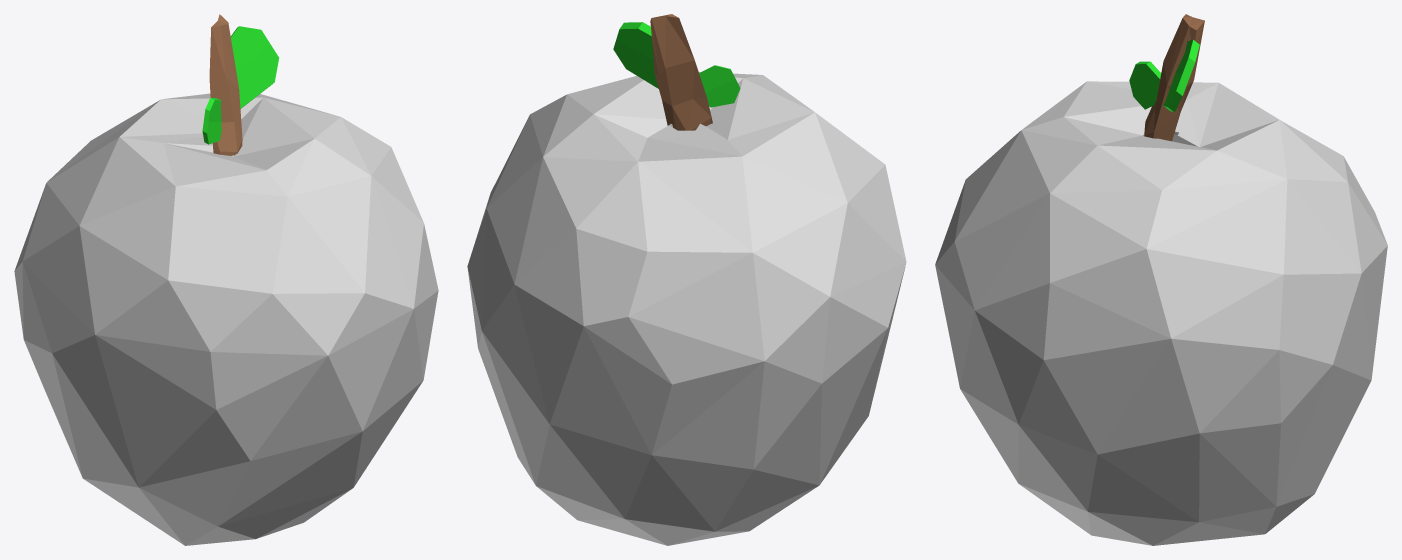
File: Apple2.fbx
3 views of the same model, side by side, from view 1: azimuth 30°, elevation 25°; view 2: azimuth 150°, elevation 25°; view 3: azimuth 270°, elevation 25° (orthographic). The views are drawn at different scales.
Parts seen in each view (by area): view 1: Cube.022; view 2: Cube.022; view 3: Cube.022.
Part boxes in pixels (<box>): Cube.022: <box>14,14,438,545</box>; Cube.022: <box>467,14,906,545</box>; Cube.022: <box>935,14,1387,545</box>.
Bounding box in the file's own units: 170 × 214 × 173.
